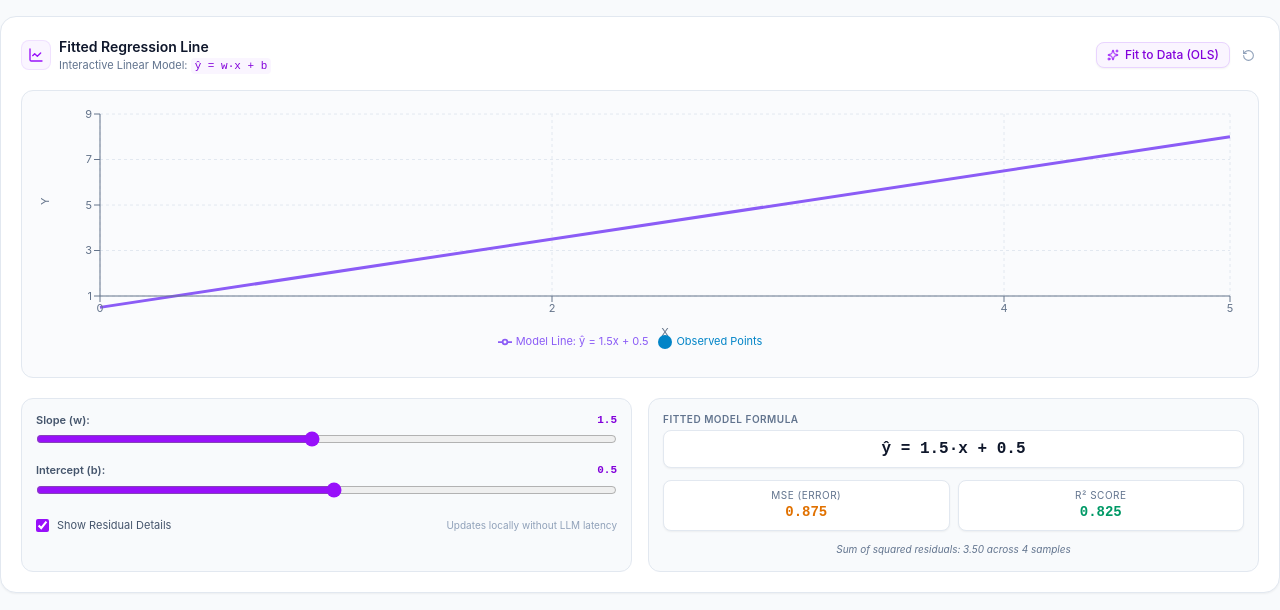
Test: ComponentRegistry & Dynamic Renderers › renders Regression visualization with scatter points, fitted line, and connected sliders
Expected: the text with test id "regression-equation" reads "ŷ = 1.5·x + 0.5", [663,430,1244,468]
# Change slope
Set the slider with test id "slope-slider" to "2.5". click: (341,439)
box: [36,431,617,447]
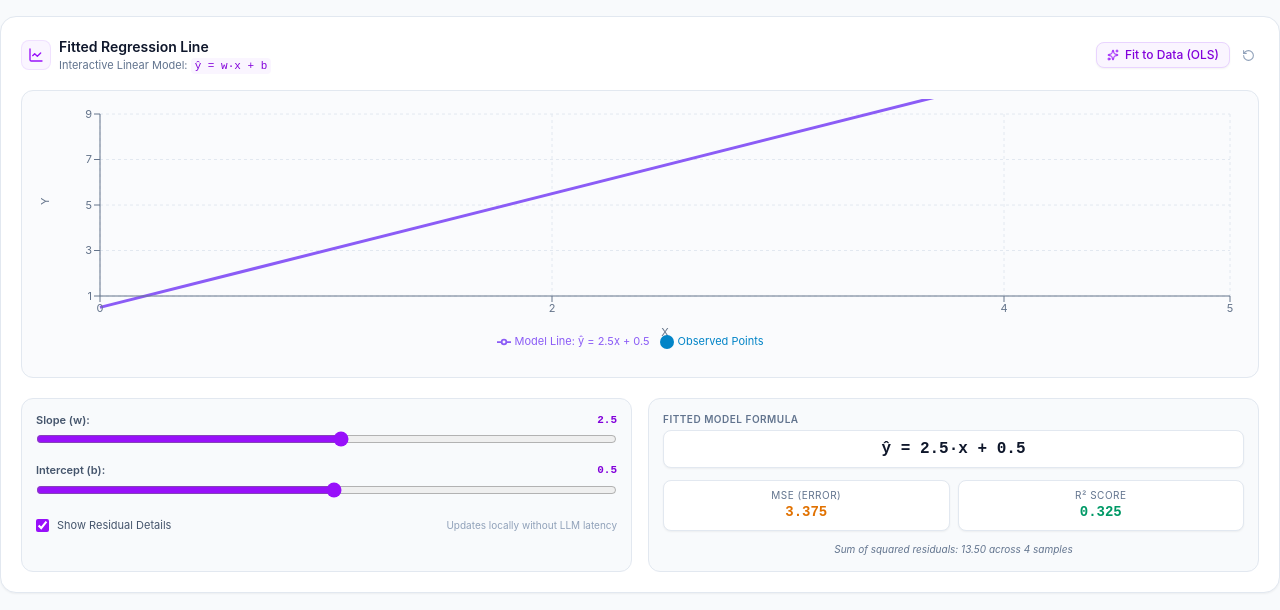
Now the text with test id "regression-equation" reads "ŷ = 2.5·x + 0.5", box [663,430,1244,468]
# Change intercept
Set the slider with test id "intercept-slider" to "1.2". click: (343,490)
box: [36,482,617,498]
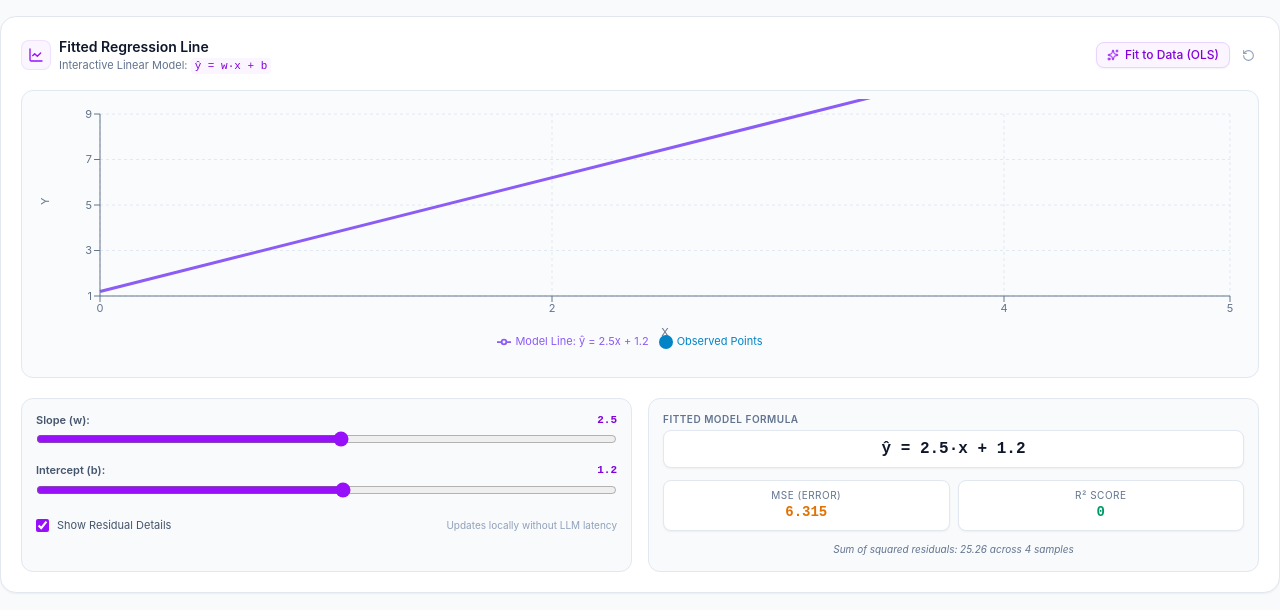
Now the text with test id "regression-equation" reads "ŷ = 2.5·x + 1.2", box [663,430,1244,468]
Click the button with test id "fit-least-squares-btn". click: (1163,55)
box: [1096,42,1230,68]
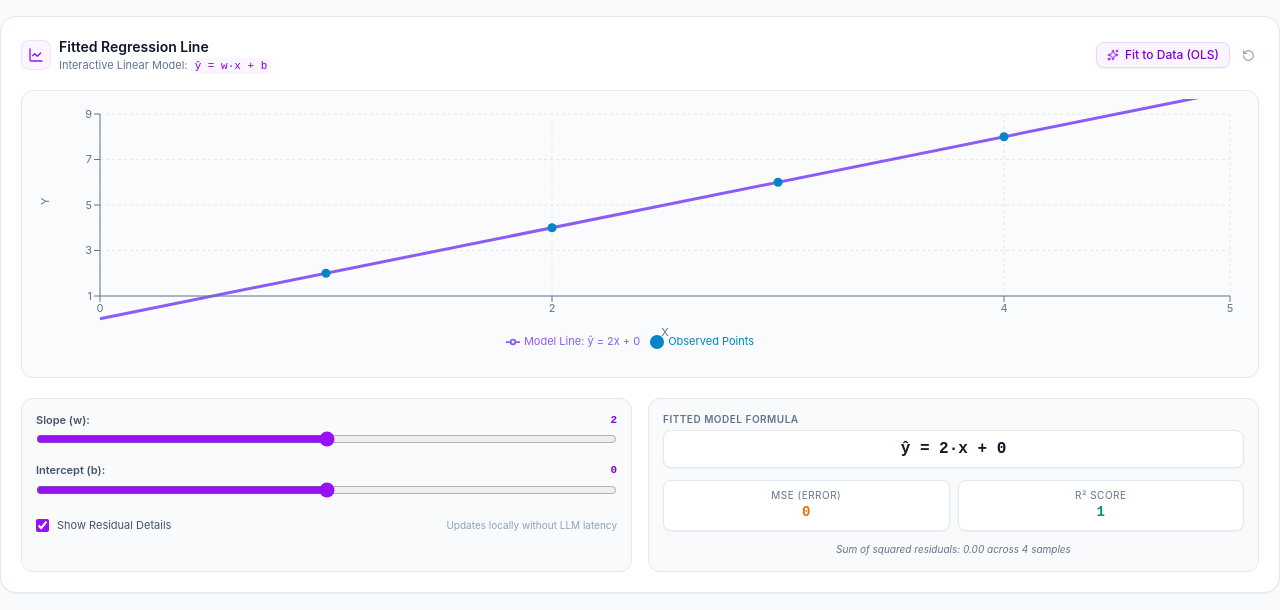
Now the text with test id "regression-equation" reads "ŷ = 2·x + 0", box [663,430,1244,468]
